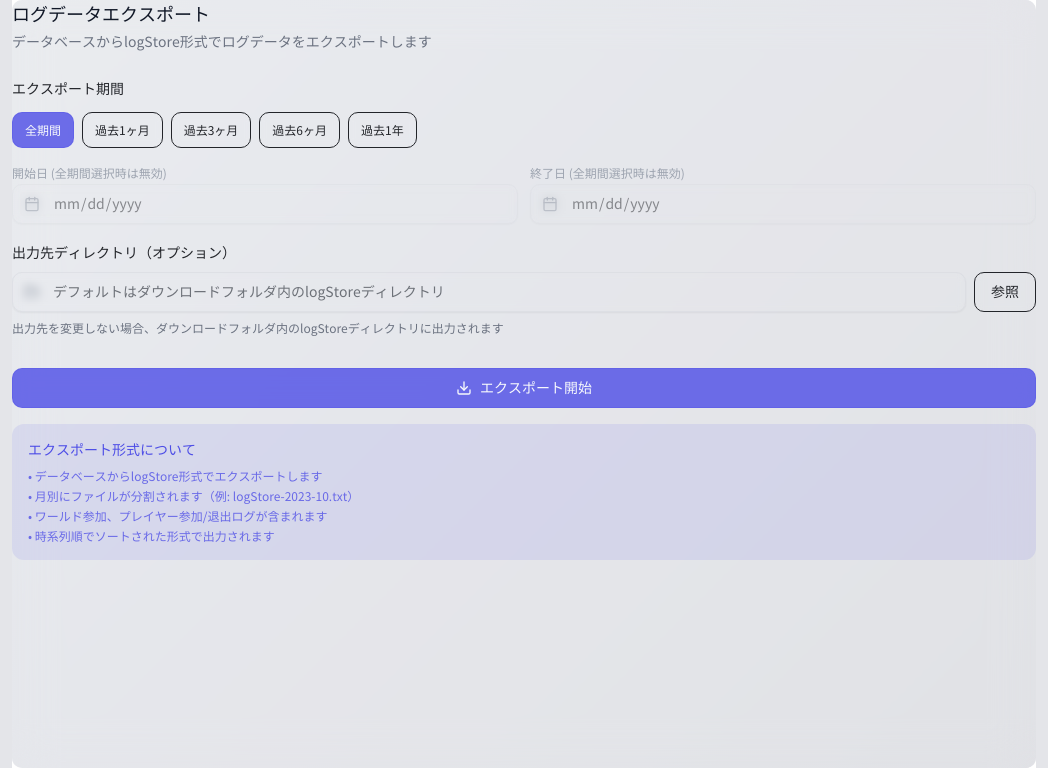
Test case: DataExport › 期間プリセットボタンをクリックすると日付入力が有効になる
The width and height of the screenshot is (1048, 768).
Click the button "過去1ヶ月" at {"x": 122, "y": 130}, box [82, 112, 163, 148]
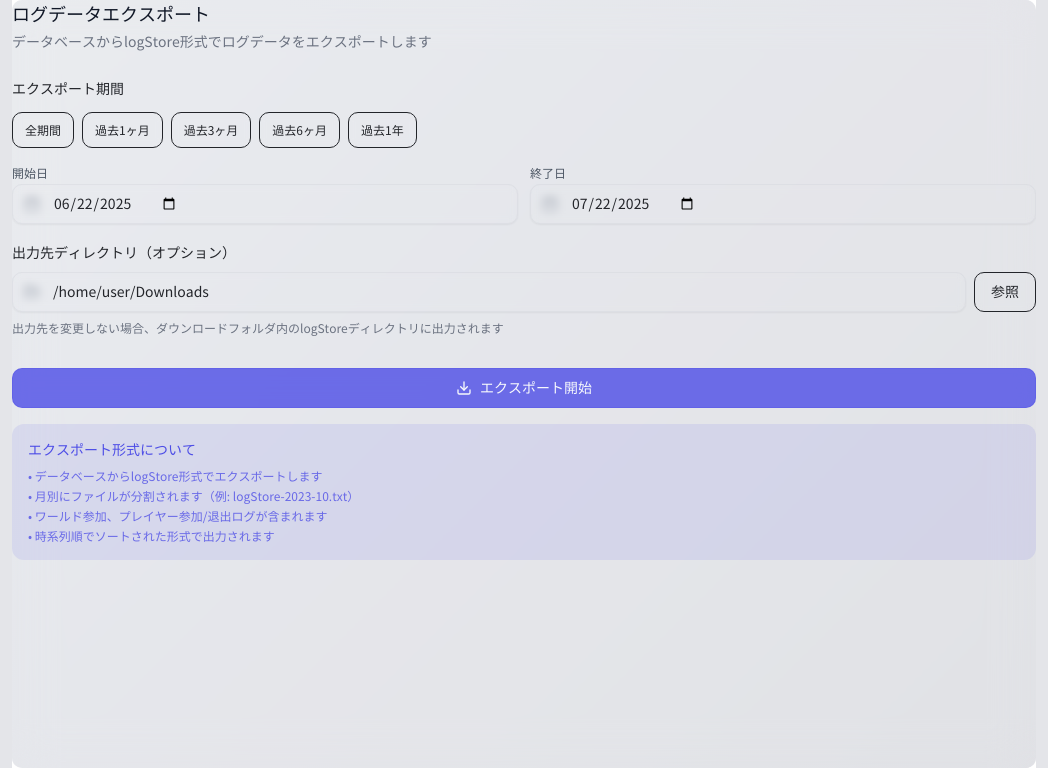
Now the date field labelled "開始日" is enabled, box [12, 184, 518, 224]
Now the date field labelled "終了日" is enabled, box [530, 184, 1036, 224]
